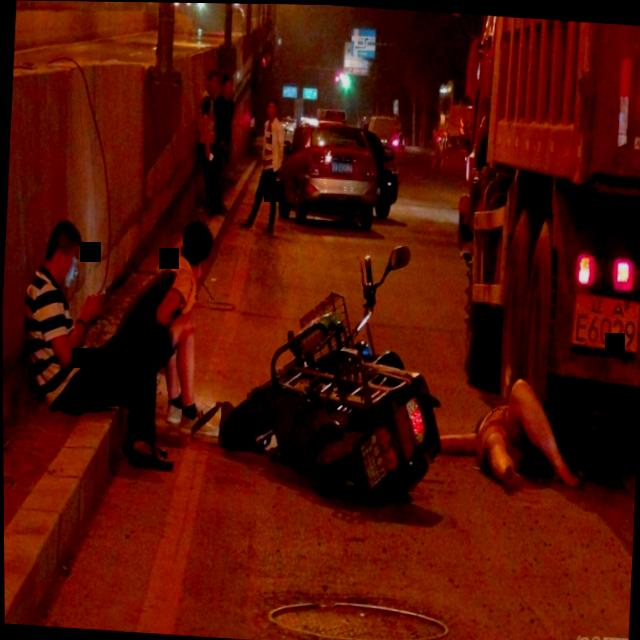Fall-Detected: (420, 368, 588, 507)
